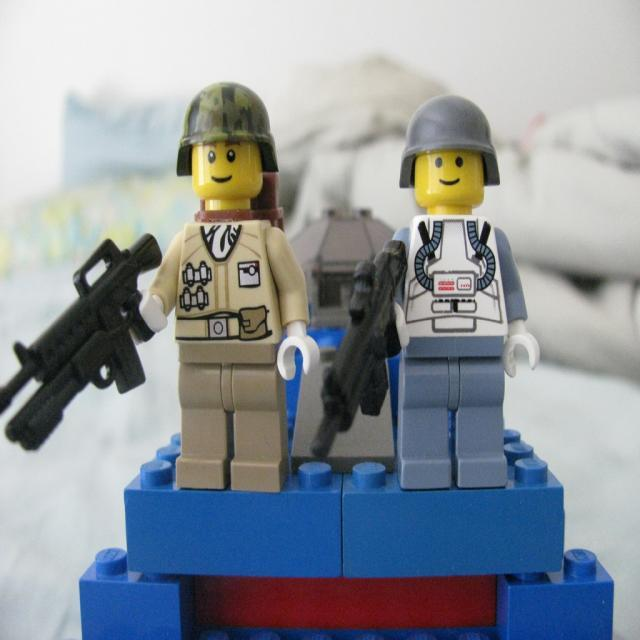weapon: (0, 211, 169, 474), (307, 236, 409, 462)
